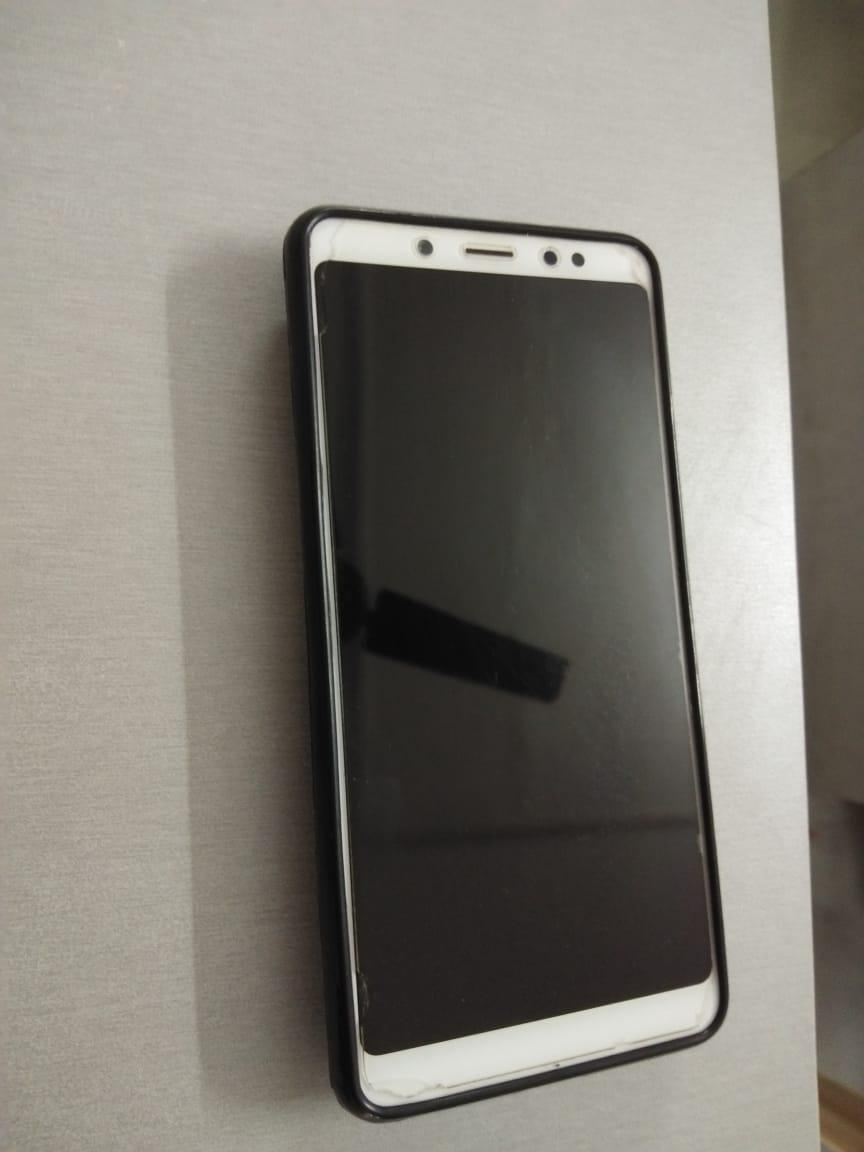Phone: (253, 176, 757, 1137)
